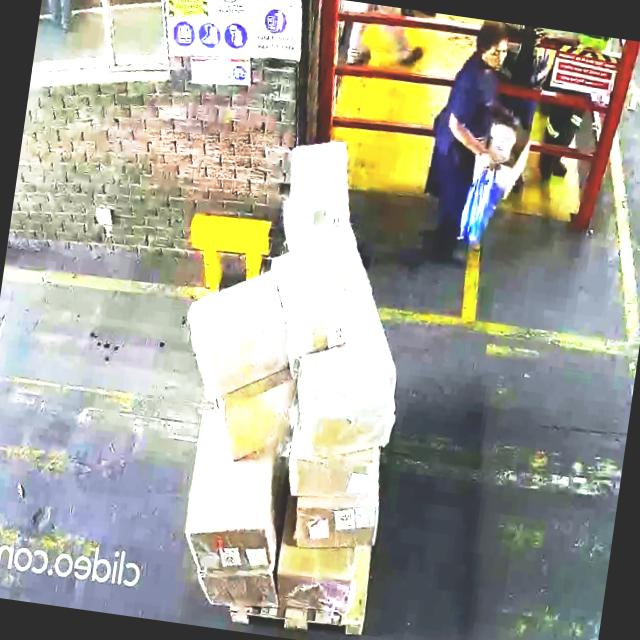Box: (290, 332, 406, 473), (182, 274, 292, 394), (181, 446, 279, 577), (281, 230, 358, 346), (218, 364, 300, 468), (282, 130, 359, 237), (268, 540, 356, 620), (288, 489, 379, 564), (284, 444, 378, 506), (195, 562, 278, 616)
